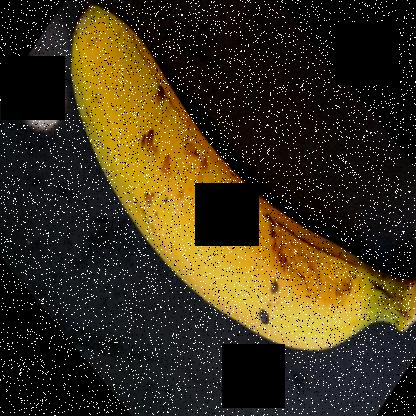ripe: (58, 1, 378, 355)
